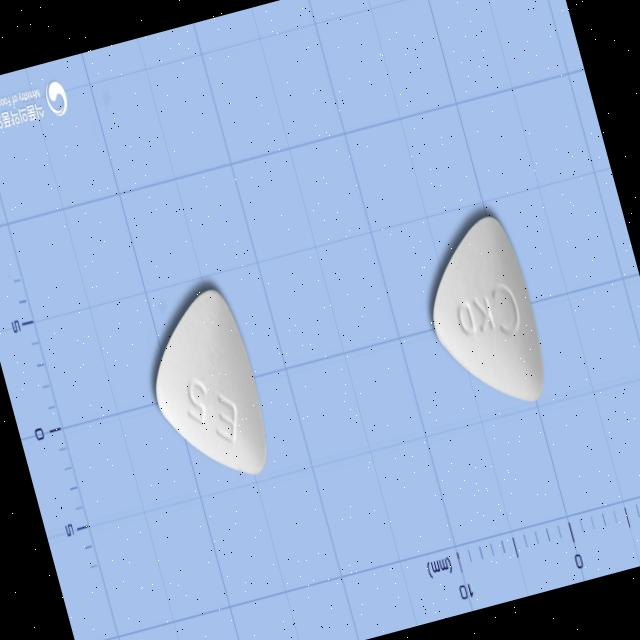Entecabell - 1mg: (408, 209, 558, 423), (132, 284, 278, 494)
